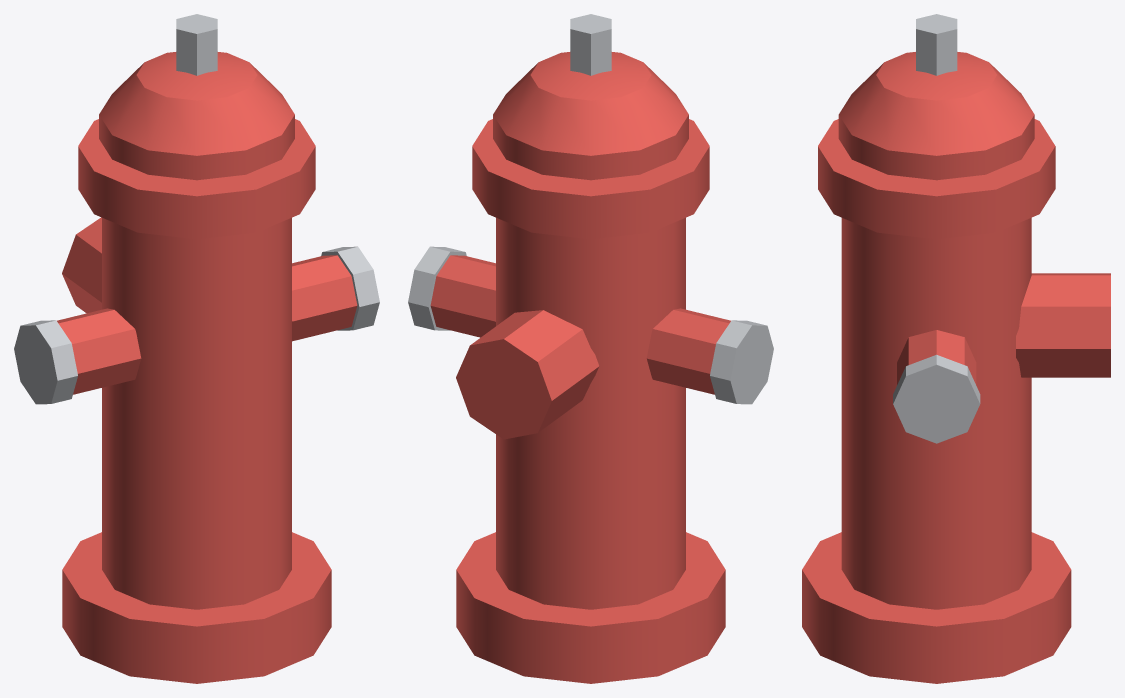
Rendered from hydrant.glb.
The picture shows the model from 3 angles, left to right: view 1: azimuth 30°, elevation 25°; view 2: azimuth 150°, elevation 25°; view 3: azimuth 270°, elevation 25°; orthographic projection.
Parts seen in each view (by area): view 1: body; view 2: body; view 3: body.
Boxes of the visible parts, x1,y1,x2,y2 form: body: (14,14,379,683); body: (408,14,773,683); body: (802,14,1110,683).
Bounding box in the file's own units: 0.47 × 0.84 × 0.39.
